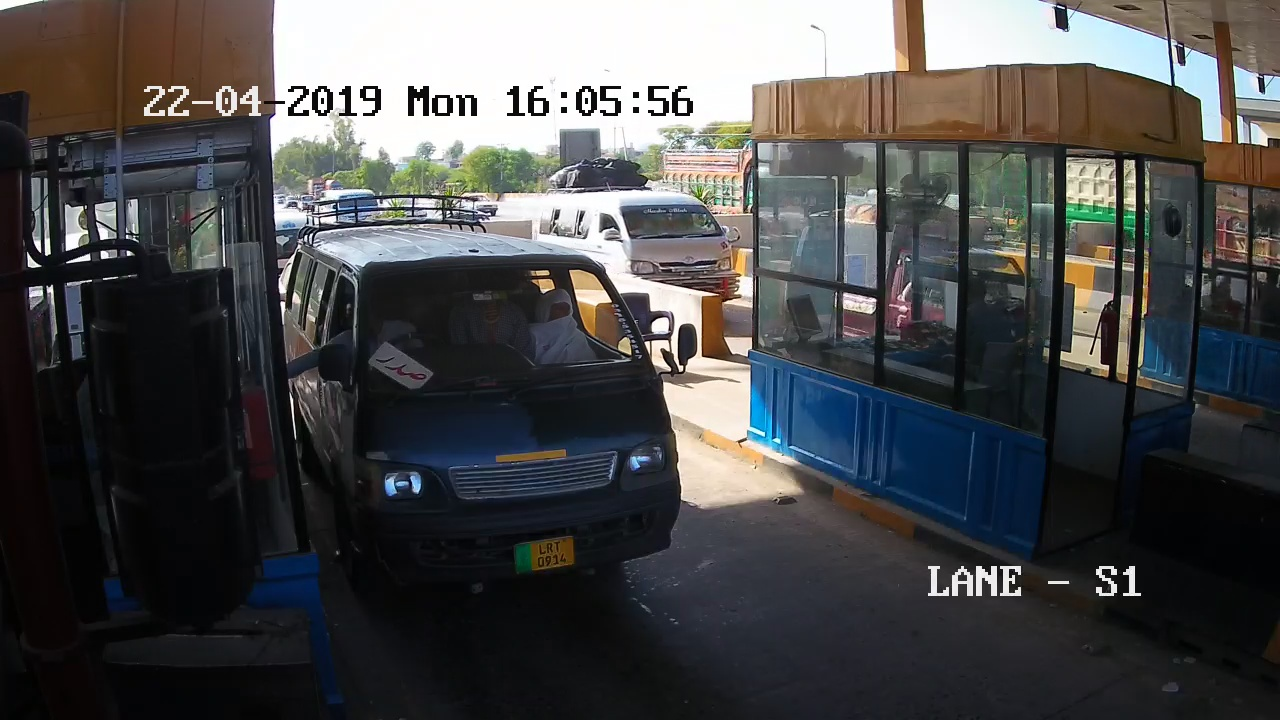Number Plate (Car): (512, 540, 578, 568)
